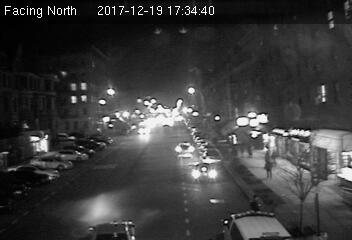car: (190, 163, 218, 184), (175, 141, 195, 160)
pedestrian: (262, 160, 274, 181)
police: (221, 210, 297, 240)
